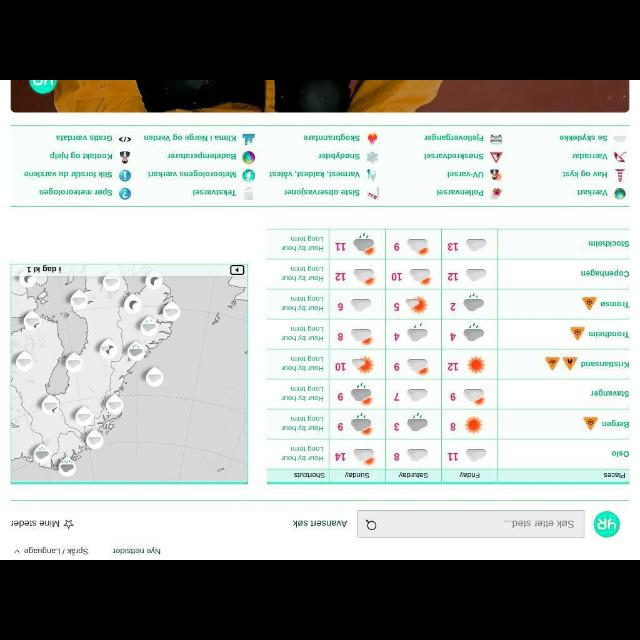icon: (365, 519, 377, 531), (490, 136, 502, 144), (63, 520, 73, 528), (15, 548, 21, 556)
image: (11, 81, 629, 113), (594, 512, 620, 538), (350, 412, 372, 436), (350, 384, 372, 406), (354, 233, 376, 254), (407, 356, 429, 376), (462, 323, 484, 342), (407, 412, 427, 432), (464, 292, 484, 312), (463, 388, 485, 406), (352, 356, 374, 374), (350, 327, 372, 345), (407, 324, 428, 342), (407, 296, 428, 314), (410, 269, 432, 285), (465, 416, 483, 434), (354, 449, 374, 465), (466, 357, 486, 373), (354, 269, 374, 285), (465, 448, 487, 462), (351, 298, 372, 312), (408, 240, 428, 254), (407, 450, 428, 462), (466, 269, 486, 281), (582, 296, 596, 312), (408, 388, 426, 400), (545, 356, 559, 370), (582, 418, 598, 430), (564, 356, 576, 372), (468, 240, 484, 252), (570, 327, 584, 339), (242, 132, 254, 146), (118, 170, 132, 182), (242, 170, 255, 182), (242, 150, 254, 163), (490, 169, 502, 181), (368, 188, 380, 200), (119, 188, 131, 200), (118, 134, 132, 144), (614, 189, 626, 199), (615, 150, 625, 162), (614, 134, 626, 144), (490, 189, 502, 199), (491, 152, 501, 164), (366, 170, 376, 182), (367, 131, 377, 143), (244, 188, 254, 200), (120, 152, 130, 164), (616, 170, 624, 182), (367, 154, 378, 162)
input: (358, 511, 584, 537)
map: (10, 265, 246, 483)
spinner: (13, 545, 89, 555)
text: (280, 355, 324, 373), (281, 325, 325, 343), (282, 415, 324, 433), (282, 384, 324, 402), (282, 294, 324, 312), (39, 187, 113, 197), (268, 170, 360, 178), (145, 134, 237, 142), (502, 518, 574, 528), (280, 446, 324, 462), (280, 236, 324, 252), (148, 170, 235, 178), (26, 170, 112, 178), (168, 150, 236, 160), (282, 266, 324, 282), (24, 545, 90, 555), (49, 152, 112, 162), (284, 188, 361, 196), (580, 267, 630, 279), (424, 150, 484, 160), (291, 518, 347, 528), (422, 133, 483, 141), (302, 133, 360, 141), (56, 133, 114, 141), (12, 519, 58, 529), (562, 168, 608, 178), (588, 328, 630, 338), (590, 388, 630, 398), (580, 360, 630, 368), (320, 151, 360, 161), (112, 547, 160, 555), (560, 134, 606, 142), (436, 190, 484, 197), (446, 171, 486, 179), (192, 190, 235, 197), (294, 470, 324, 480), (572, 152, 608, 160), (576, 188, 608, 196), (588, 241, 630, 247), (602, 470, 626, 480), (398, 472, 428, 480), (600, 300, 630, 308), (344, 471, 370, 479), (603, 420, 629, 428), (611, 448, 629, 458), (460, 472, 480, 480), (334, 452, 346, 462), (447, 362, 459, 372), (335, 362, 347, 372), (335, 272, 347, 282), (448, 452, 458, 462), (448, 272, 458, 282), (448, 242, 458, 252), (392, 271, 402, 281), (336, 242, 346, 252), (336, 391, 344, 403), (450, 392, 458, 402), (393, 302, 401, 312), (394, 242, 402, 252), (392, 422, 400, 431), (338, 302, 344, 314), (394, 392, 401, 402), (394, 362, 401, 372), (449, 332, 456, 342), (449, 302, 456, 312), (394, 332, 401, 342), (394, 452, 401, 461), (451, 422, 457, 432), (338, 332, 344, 342), (338, 422, 344, 431)
toolbar: (1, 502, 639, 560)
